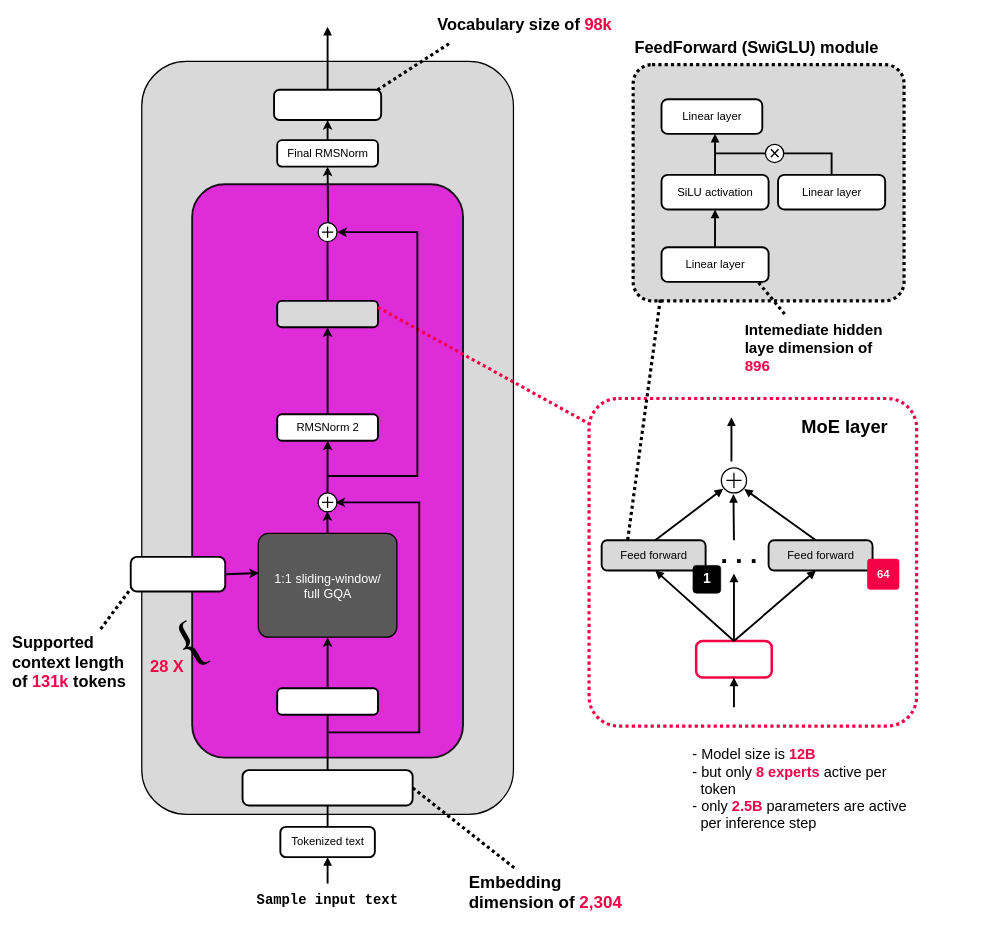
Some shapes in this 990 by 944 pixel diagram are drawn without their labels. The shapes that lost their labels are listed below. From the top down, each one's box as (x1, y1, x2, y2) in pixels, then its label:
(273, 89, 382, 121): Linear output layer
(276, 300, 379, 328): MoE
(129, 556, 226, 592): RoPE/YaRN
(695, 639, 773, 679): Router
(276, 687, 379, 715): RMSNorm 1
(241, 769, 413, 806): Token embedding layer
